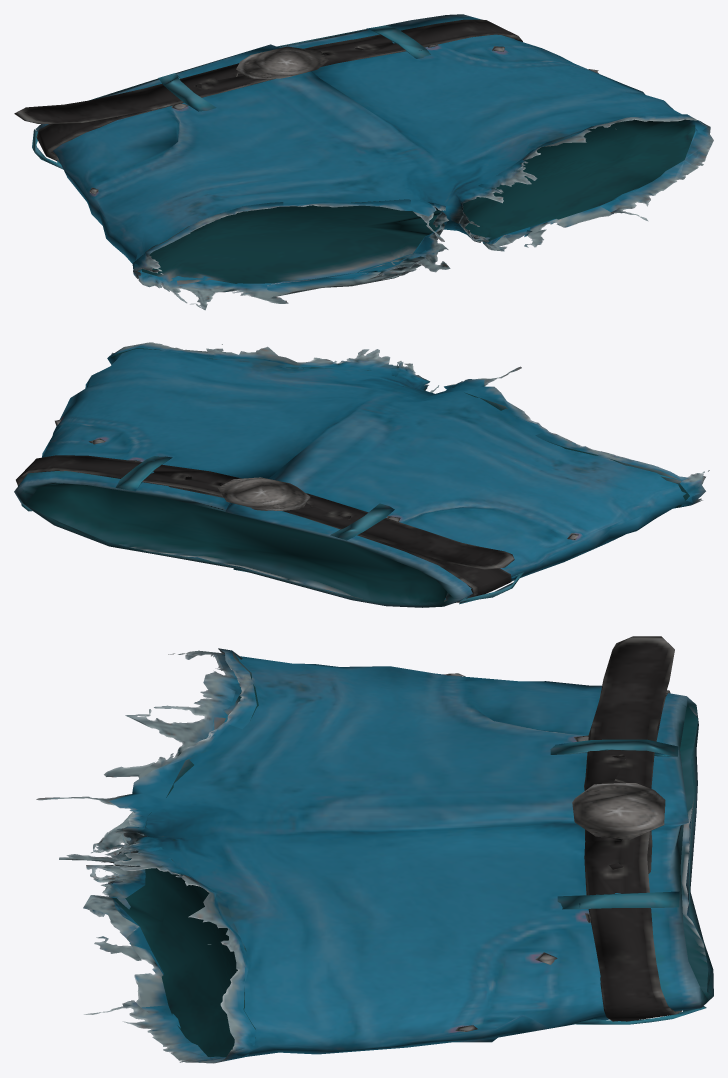
File: ShortJeanShorts_Ground.fbx
3 renders of one model, top to bottom at view 1: azimuth 30°, elevation 25°; view 2: azimuth 150°, elevation 25°; view 3: azimuth 270°, elevation 25°, orthographic. The views are drawn at different scales.
Parts seen in each view (by area): view 1: 25_jeans_0.2_0_0; view 2: 25_jeans_0.2_0_0; view 3: 25_jeans_0.2_0_0.
Part boxes in pixels (x1,y1,x2,y2): 25_jeans_0.2_0_0: (14, 14, 713, 310); 25_jeans_0.2_0_0: (14, 342, 709, 607); 25_jeans_0.2_0_0: (36, 636, 713, 1063).
Size of the model in its own units: 0.2112 by 0.0252 by 0.1571.
